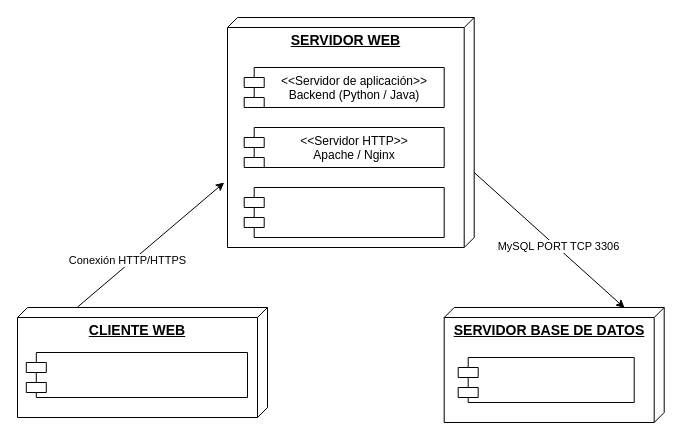
This 682x441 diagram has some shape labels left out. The centre of each missing label's shape, as x and y in pixels:
"<<API REST>> Comunicacion con clientes y otros servicios" belongs at [343,212].
"<<Base de datos>> MySQL / PostgreSQL" belongs at [545,379].
"<<Navegador web>> Frontend (HTML, CSS, JavaScript)" belongs at [136,375].
